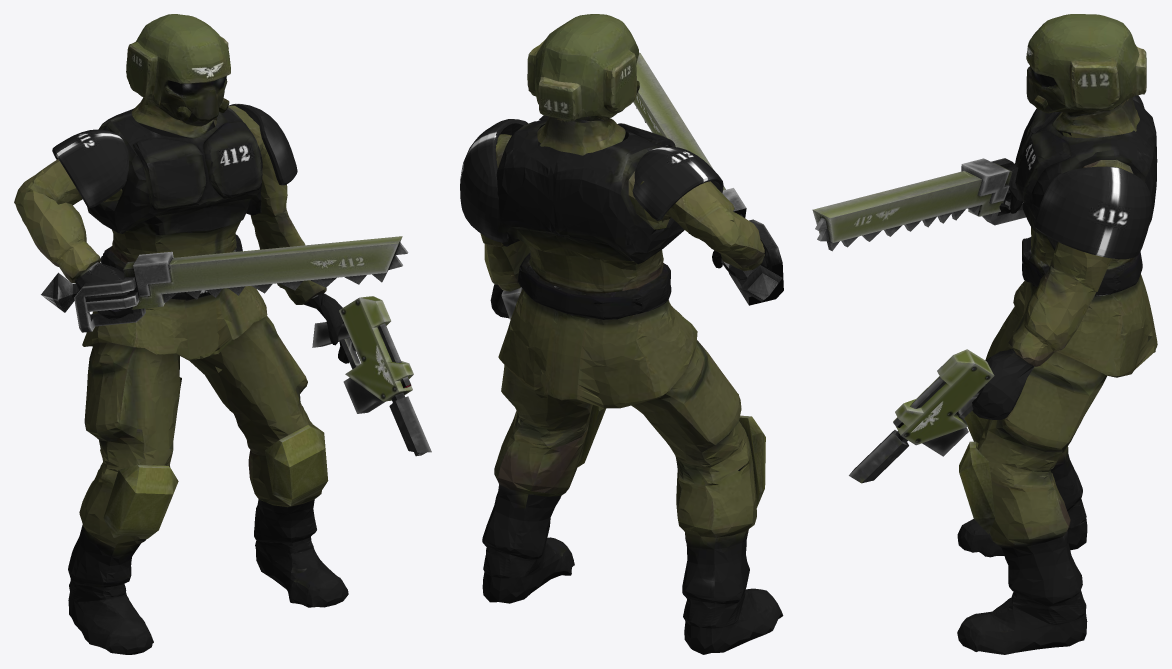
The model's file is ig sgt.obj.
The picture shows the model from 3 angles, left to right: view 1: azimuth 30°, elevation 25°; view 2: azimuth 150°, elevation 25°; view 3: azimuth 270°, elevation 25°; orthographic projection. The views are drawn at different scales.
Parts seen in each view (by area): view 1: Object.1; view 2: Object.1; view 3: Object.1.
Part boxes in pixels (x1=…): Object.1: x1=14, y1=14, x2=431, y2=654; Object.1: x1=460, y1=14, x2=783, y2=654; Object.1: x1=812, y1=14, x2=1157, y2=654.
Bounding box in the file's own units: 10.39 × 18.87 × 10.21.
Materials: 7 (7 with a texture image).
